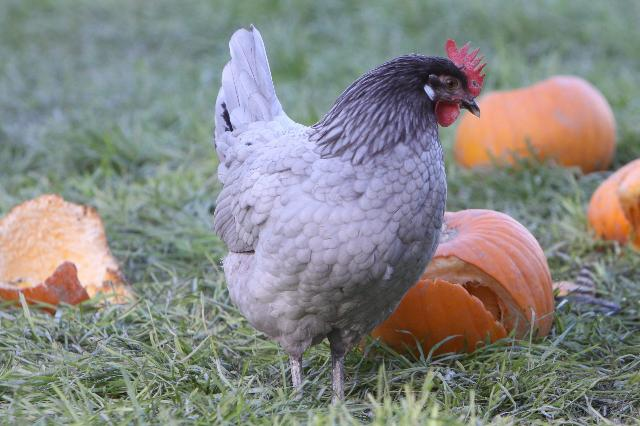Chicken: (213, 24, 487, 410)
